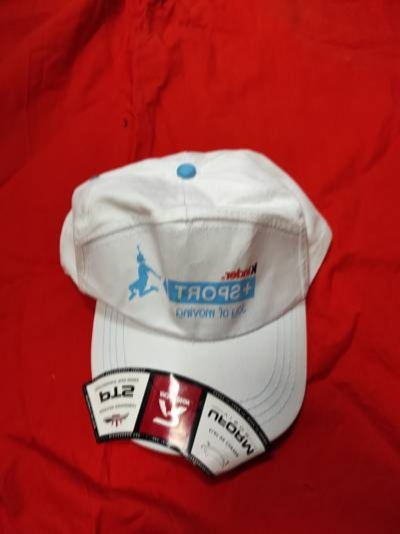Hat: (44, 108, 376, 474)
